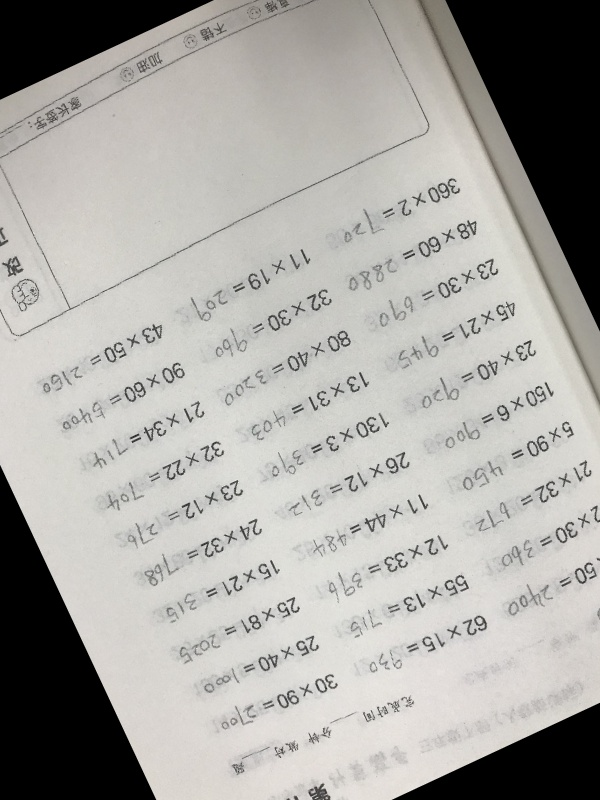equation: (345, 222, 482, 291), (364, 258, 498, 327), (180, 251, 312, 321), (217, 333, 352, 401), (328, 176, 461, 245), (387, 301, 518, 368), (134, 517, 262, 583), (59, 366, 187, 431), (38, 326, 167, 390), (209, 291, 333, 356), (325, 530, 447, 596), (101, 443, 226, 506), (285, 453, 410, 516), (415, 342, 537, 406), (176, 598, 301, 660), (247, 373, 370, 436), (473, 467, 596, 530), (266, 413, 388, 476), (367, 614, 489, 677), (122, 483, 244, 545), (156, 559, 278, 621), (347, 573, 468, 634), (86, 403, 206, 464), (310, 495, 430, 556), (218, 670, 337, 731), (457, 427, 575, 488), (440, 384, 556, 446), (201, 635, 319, 694), (503, 546, 600, 614), (497, 507, 600, 567)
